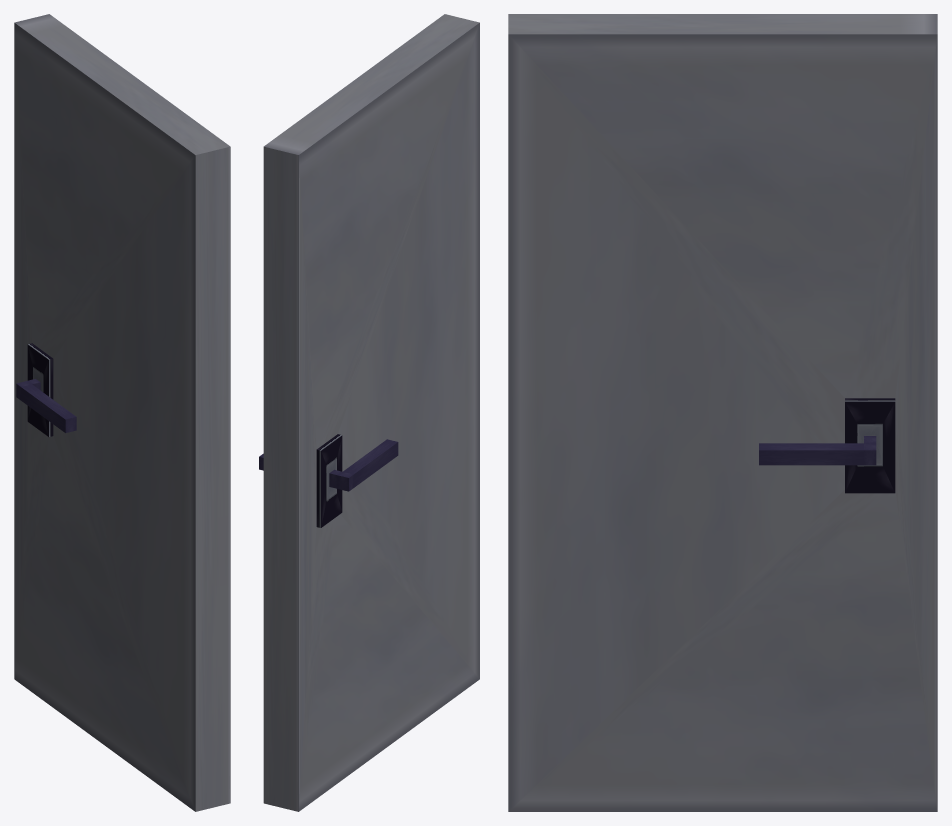
File: tuer.fbx
3 views of the same model, side by side, from view 1: azimuth 30°, elevation 25°; view 2: azimuth 150°, elevation 25°; view 3: azimuth 270°, elevation 25° (orthographic). The views are drawn at different scales.
Visible parts, largest first — view 1: Tuer; view 2: Tuer; view 3: Tuer.
Part boxes in pixels (box(x1,y1,x2,y2)): Tuer: box(14, 14, 230, 811); Tuer: box(259, 14, 479, 811); Tuer: box(508, 14, 937, 811).
Bounding box in the file's own units: 28.59 × 200 × 100.
